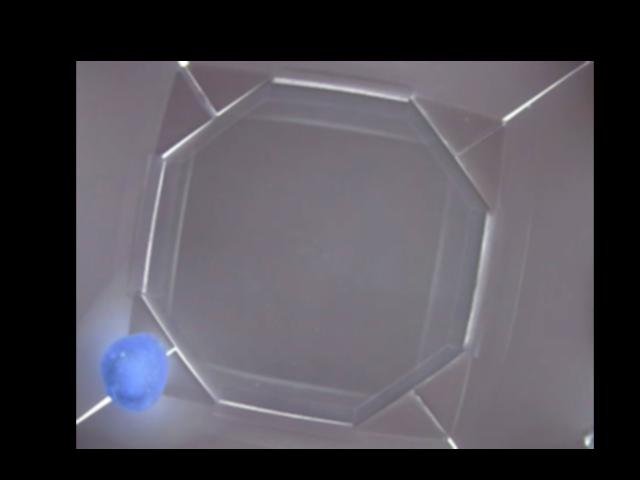Potato: (98, 331, 171, 411)
